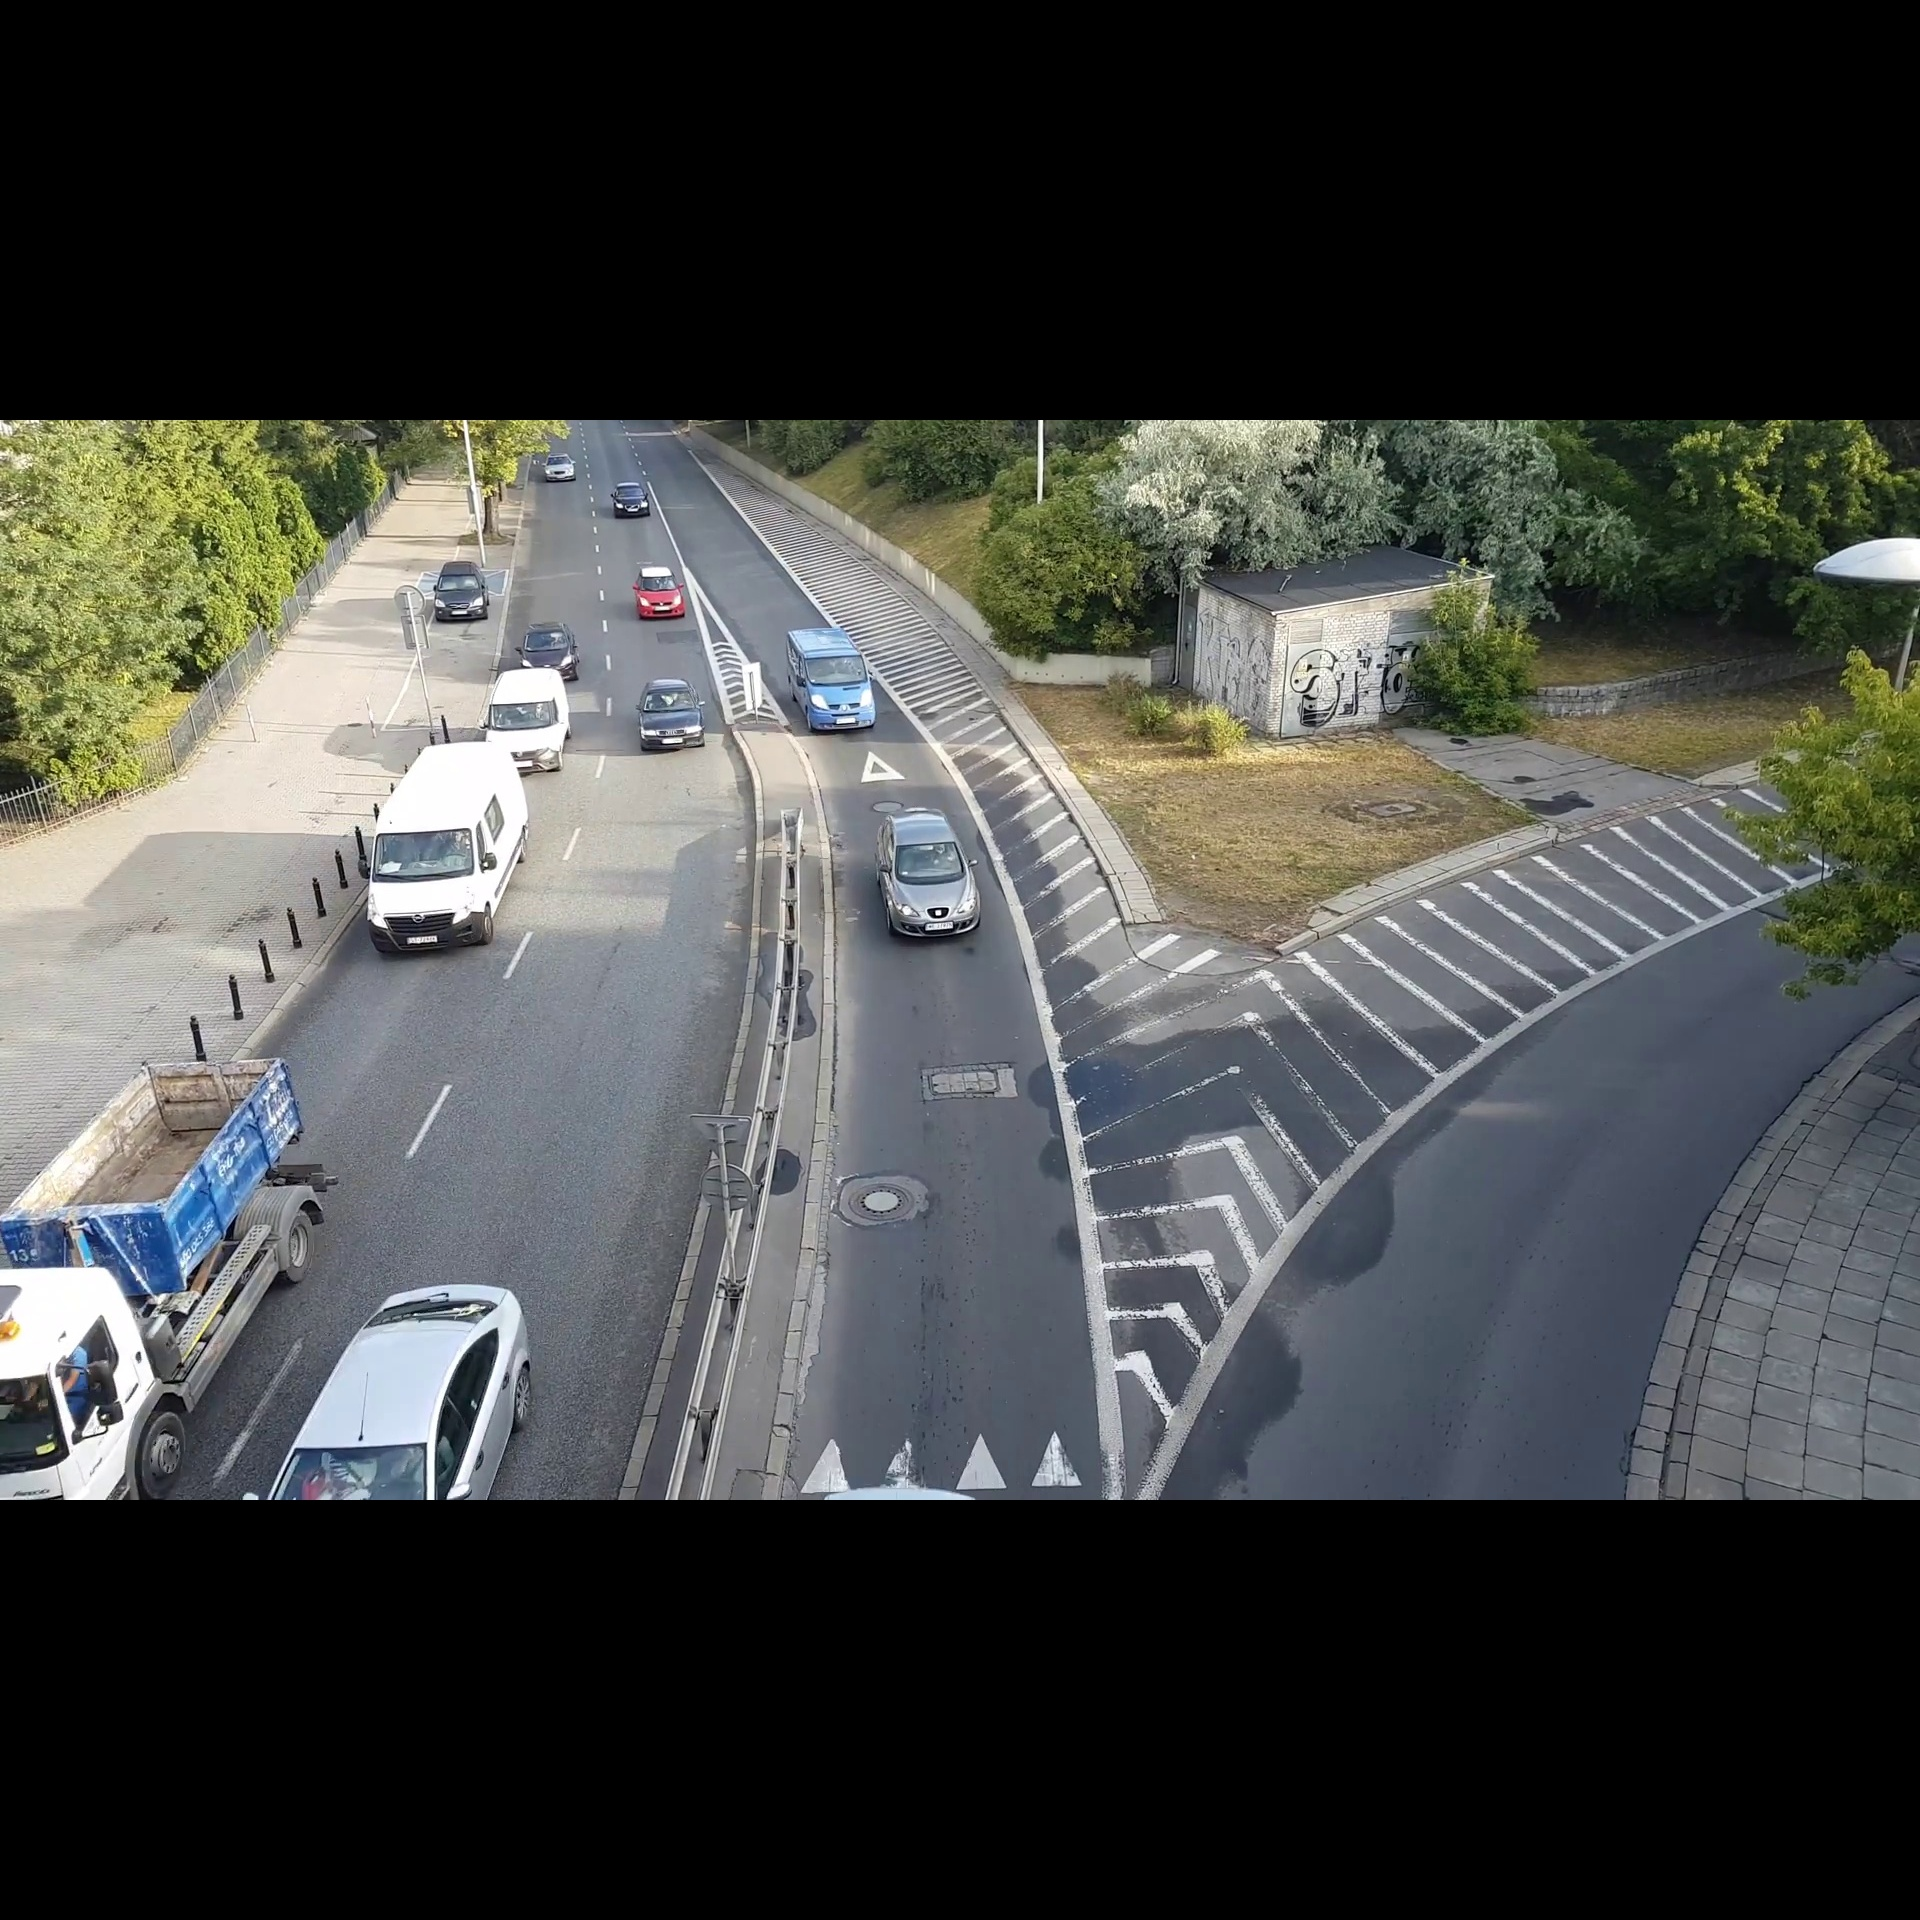vehicle: (2, 1046, 345, 1502), (237, 1276, 542, 1502), (360, 737, 535, 969), (860, 802, 986, 956), (782, 619, 886, 740), (484, 659, 578, 781), (628, 672, 714, 767), (513, 617, 582, 686), (425, 557, 494, 622), (628, 557, 687, 624), (607, 476, 654, 524), (540, 448, 580, 484)
